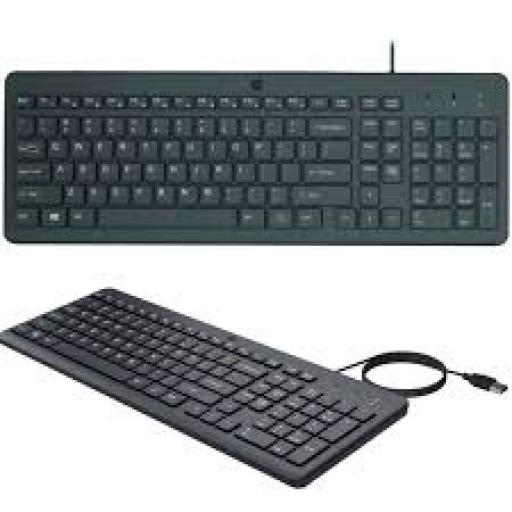keyboard: (7, 73, 507, 243)
